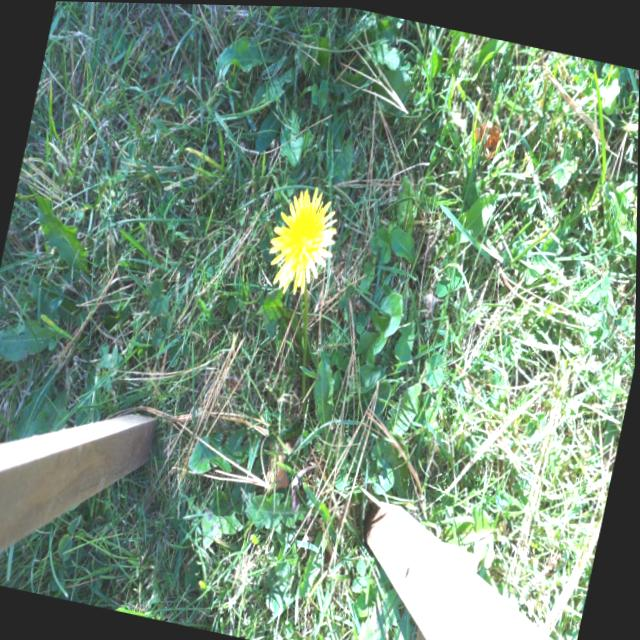base: (288, 389, 324, 436)
flower: (261, 175, 347, 301)
